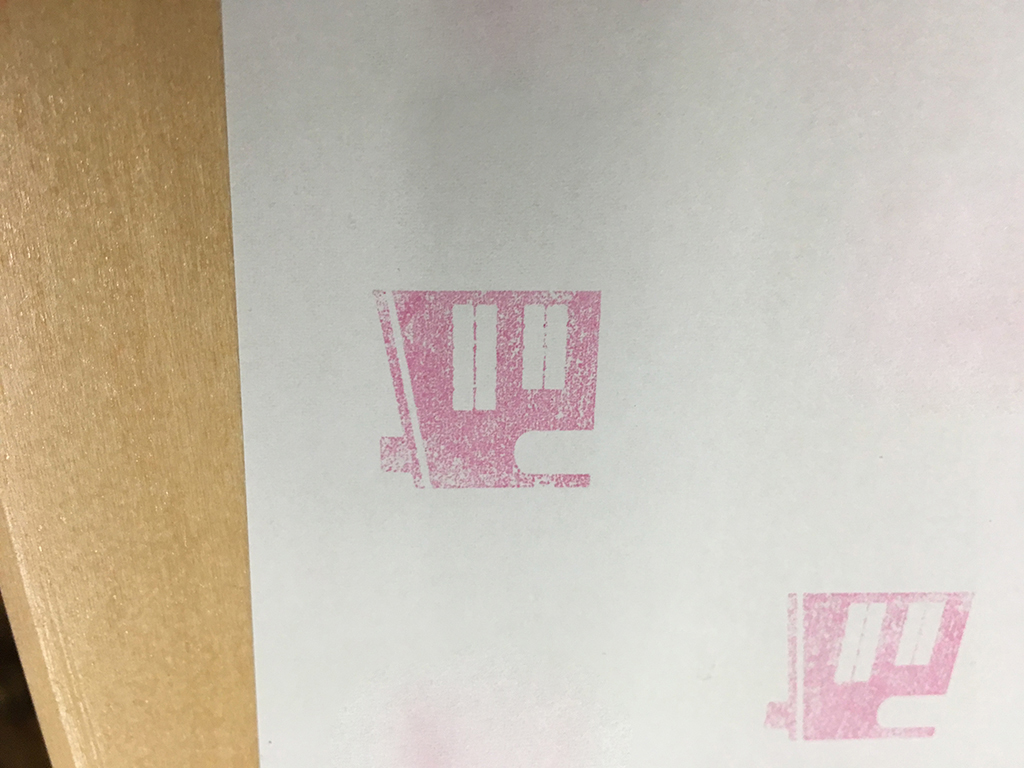house: (346, 265, 613, 516), (750, 576, 979, 757)
